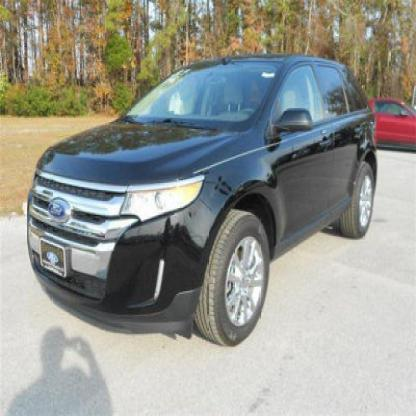Vehicle: (24, 54, 381, 348)
